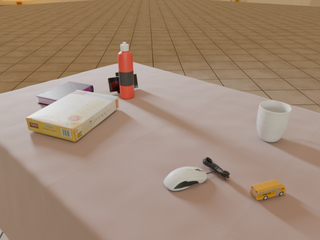book: (36, 81, 94, 105)
bottle: (118, 42, 134, 99)
box: (26, 90, 119, 142)
cup: (257, 101, 292, 142)
mouse: (164, 167, 207, 191)
phone: (108, 74, 138, 92)
toy_car: (250, 180, 286, 200)
